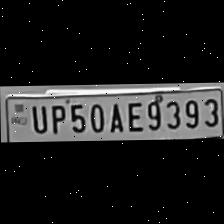0: (86, 100, 106, 132)
3: (200, 96, 220, 128), (162, 96, 180, 130)
5: (66, 100, 86, 132)
9: (142, 97, 162, 130), (180, 96, 200, 127)
A: (104, 100, 124, 132)
E: (124, 98, 142, 132)
P: (46, 100, 66, 134)
U: (28, 102, 48, 133)
